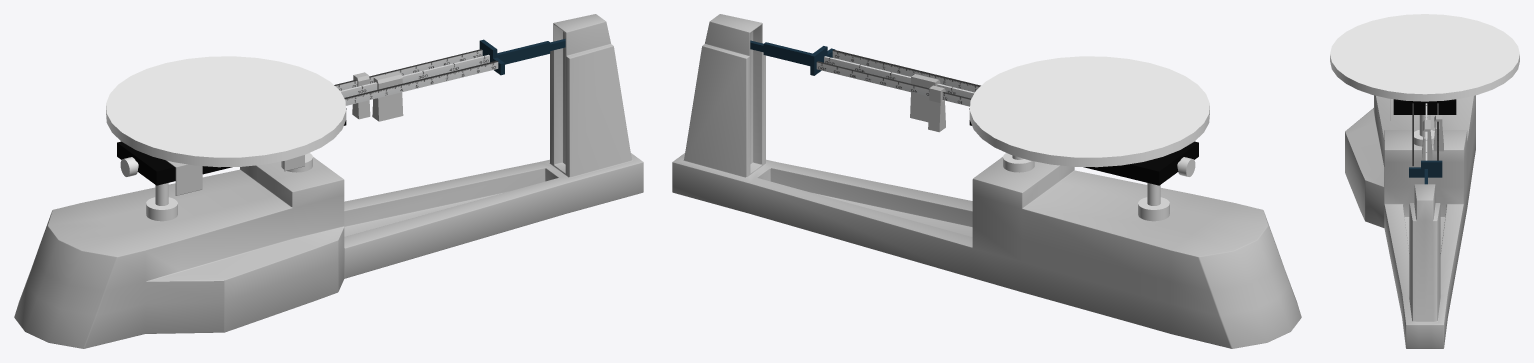
The model's file is Neraca ohaus.fbx.
The picture shows the model from 3 angles, left to right: view 1: azimuth 30°, elevation 25°; view 2: azimuth 150°, elevation 25°; view 3: azimuth 270°, elevation 25°; orthographic projection. The views are drawn at different scales.
Parts seen in each view (by area): view 1: Cube.041, Cylinder.025, Cube.076, skala ohauss.002, Cube.042, Cylinder.027, Cube.077, skala ohauss.001, skala ohauss; view 2: Cube.041, Cylinder.025, Cube.076, Cylinder.027, skala ohauss, skala ohauss.002, Cube.042, skala ohauss.001, Cube.077, Cube.078; view 3: Cube.041, Cylinder.025, Cube.076, Cube.042, Cube.077, Cylinder.027, Cube.078.
Part boxes in pixels (bbox=[...]): Cube.041: bbox=[14, 14, 643, 348]; Cylinder.025: bbox=[106, 56, 346, 167]; Cube.076: bbox=[117, 108, 346, 195]; skala ohauss.002: bbox=[344, 60, 498, 105]; Cube.042: bbox=[479, 38, 565, 75]; Cylinder.027: bbox=[146, 153, 312, 221]; Cube.077: bbox=[372, 71, 403, 121]; skala ohauss.001: bbox=[340, 54, 489, 97]; skala ohauss: bbox=[334, 49, 482, 90]; Cube.041: bbox=[672, 14, 1301, 348]; Cylinder.025: bbox=[969, 56, 1209, 167]; Cube.076: bbox=[969, 108, 1198, 185]; Cylinder.027: bbox=[1003, 153, 1169, 221]; skala ohauss: bbox=[816, 61, 970, 106]; skala ohauss.002: bbox=[832, 50, 980, 92]; Cube.042: bbox=[750, 40, 835, 75]; skala ohauss.001: bbox=[824, 56, 974, 98]; Cube.077: bbox=[910, 74, 940, 122]; Cube.078: bbox=[928, 85, 945, 132]; Cube.041: bbox=[1345, 95, 1475, 348]; Cylinder.025: bbox=[1330, 14, 1519, 101]; Cube.076: bbox=[1390, 99, 1456, 120]; Cube.042: bbox=[1409, 160, 1442, 184]; Cube.077: bbox=[1422, 120, 1432, 160]; Cylinder.027: bbox=[1414, 115, 1434, 146]; Cube.078: bbox=[1433, 115, 1443, 151].
Bounding box in the file's own units: 89.74 × 24.86 × 30.82.
Materials: 8 (1 with a texture image).
